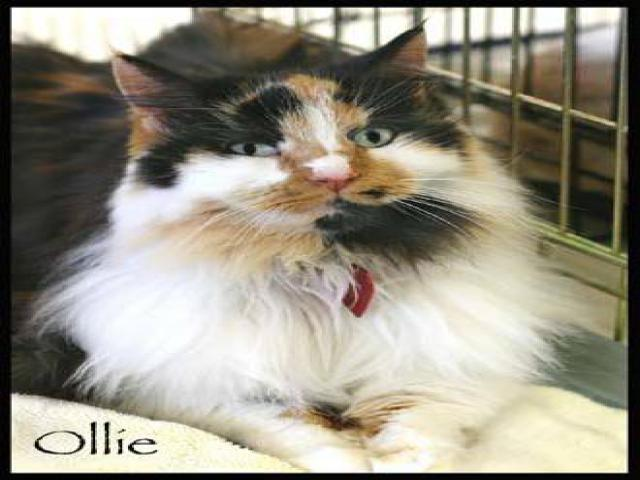cat: (35, 20, 581, 470)
